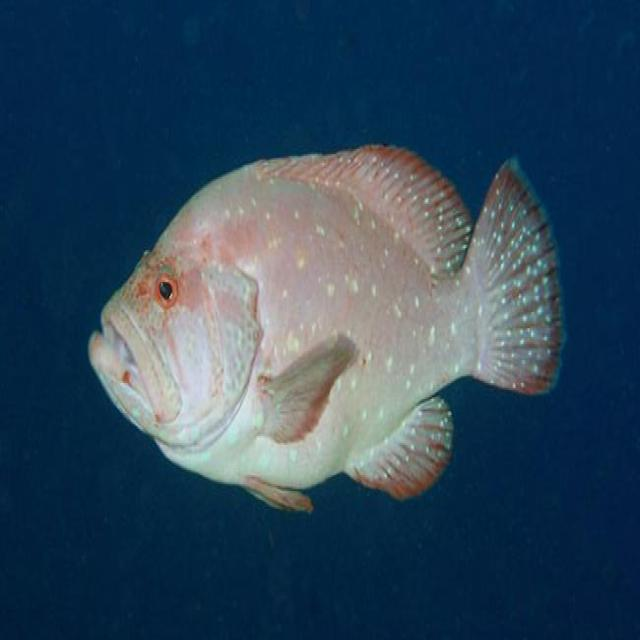ikan: (87, 140, 566, 514)
